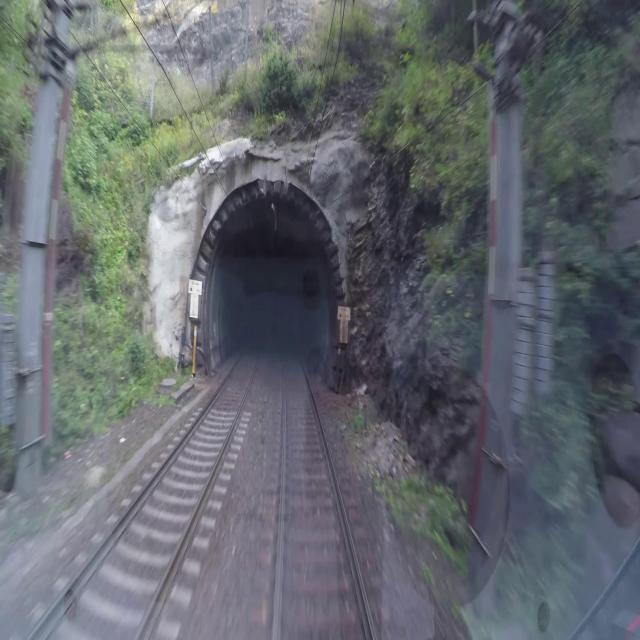rail-track: (32, 350, 257, 639), (279, 357, 372, 639)
